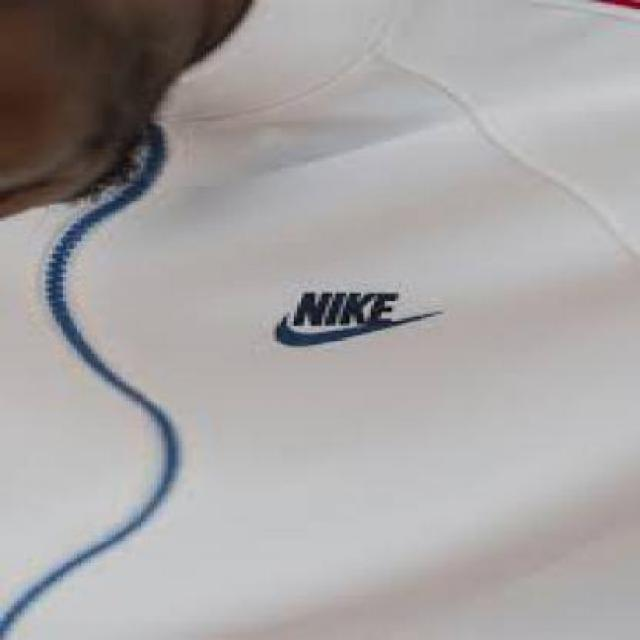Nike: (262, 286, 444, 346)
